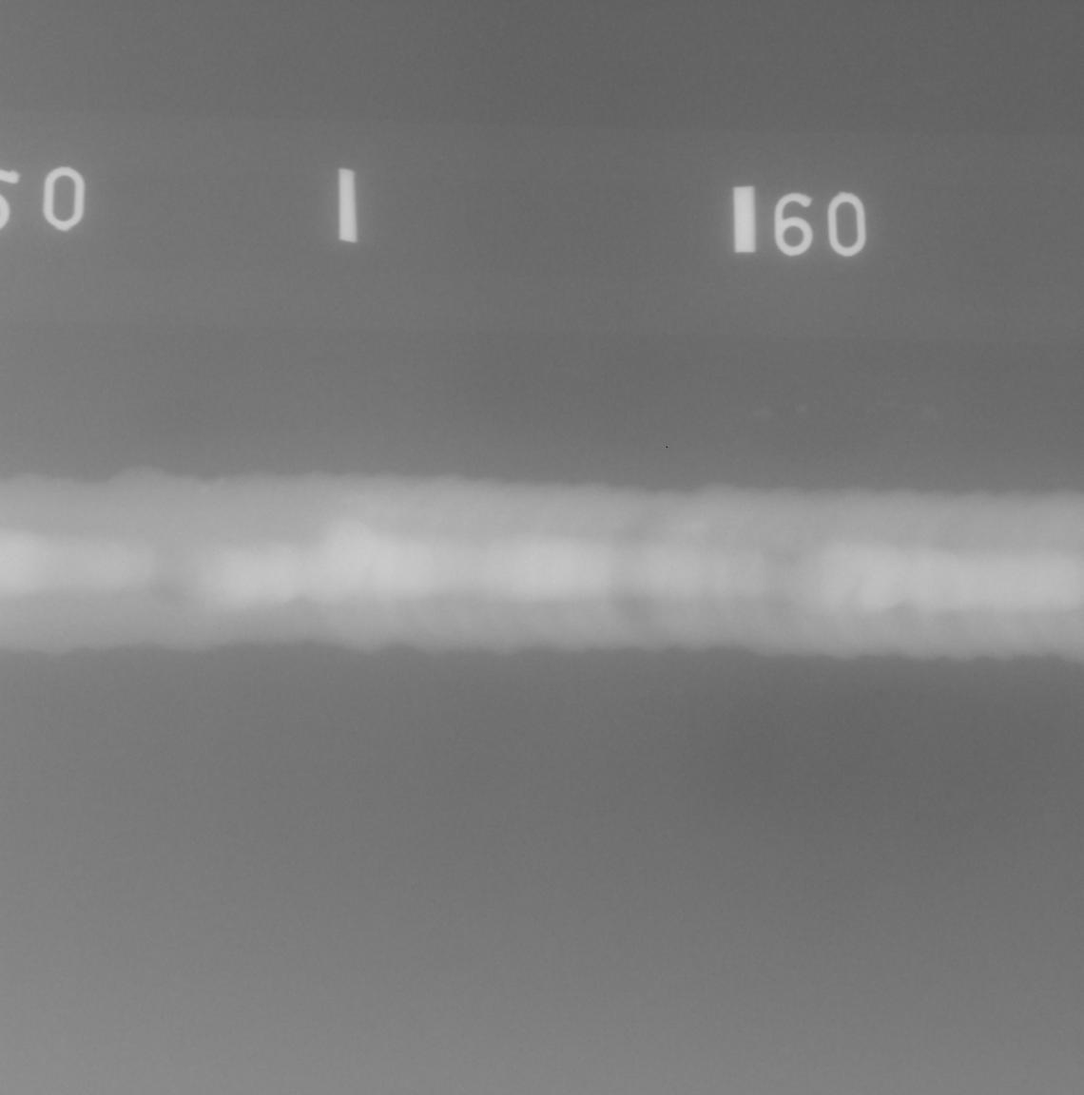Pore/Porosity: (136, 529, 144, 533)
